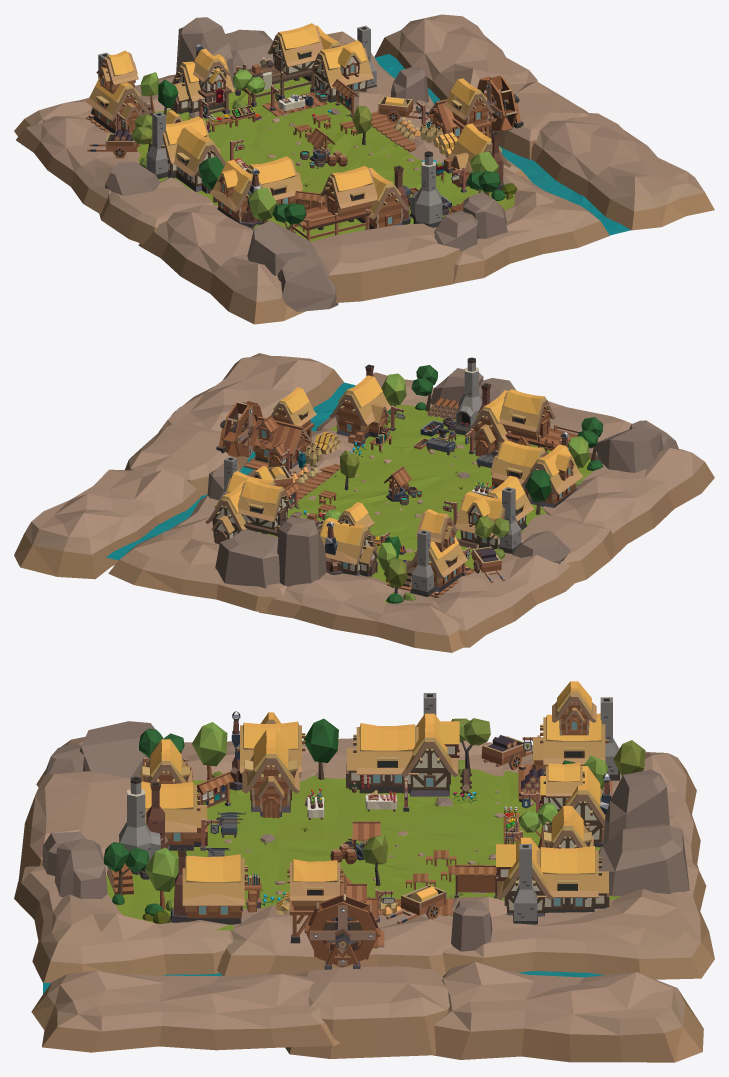
Rendered from village.fbx.
3 views of the same model, one above another, from view 1: azimuth 30°, elevation 25°; view 2: azimuth 150°, elevation 25°; view 3: azimuth 270°, elevation 25° (orthographic). The views are drawn at different scales.
Parts seen in each view (by area): view 1: samor_1112_435, samor_1112_422, samor_1112_421, samor_1112_437, samor_1112_441, samor_1112_431, samor_1112_424, samor_1112_423, samor_1112_440, samor_1112_52, samor_1112_427, samor_1112_48 (+44 smaller); view 2: samor_1112_441, samor_1112_426, samor_1112_422, samor_1112_434, samor_1112_424, samor_1112_435, samor_1112_431, samor_1112_440, samor_1112_439, samor_1112_38, samor_1112_423, samor_1112_39 (+40 smaller); view 3: samor_1112_441, samor_1112_435, samor_1112_434, samor_1112_437, samor_1112_440, samor_1112_427, samor_1112_442, samor_1112_431, samor_1112_421, samor_1112_38, samor_1112_439, samor_1112_374 (+49 smaller).
Part boxes in pixels (bbox=[...]): samor_1112_435: bbox=[531, 112, 714, 230]; samor_1112_422: bbox=[138, 204, 305, 324]; samor_1112_421: bbox=[311, 223, 461, 302]; samor_1112_437: bbox=[433, 168, 609, 283]; samor_1112_441: bbox=[374, 14, 537, 100]; samor_1112_431: bbox=[240, 101, 421, 184]; samor_1112_424: bbox=[16, 116, 146, 214]; samor_1112_423: bbox=[99, 177, 213, 244]; samor_1112_440: bbox=[484, 81, 588, 159]; samor_1112_52: bbox=[277, 252, 338, 311]; samor_1112_427: bbox=[128, 123, 324, 205]; samor_1112_48: bbox=[247, 220, 317, 275]; samor_1112_441: bbox=[14, 469, 200, 579]; samor_1112_426: bbox=[258, 572, 463, 652]; samor_1112_422: bbox=[542, 448, 714, 558]; samor_1112_434: bbox=[108, 495, 294, 613]; samor_1112_424: bbox=[429, 553, 578, 647]; samor_1112_435: bbox=[158, 353, 343, 440]; samor_1112_431: bbox=[287, 453, 456, 536]; samor_1112_440: bbox=[125, 421, 249, 496]; samor_1112_439: bbox=[330, 404, 492, 480]; samor_1112_38: bbox=[215, 529, 279, 588]; samor_1112_423: bbox=[521, 514, 614, 583]; samor_1112_39: bbox=[277, 516, 326, 586]; samor_1112_441: bbox=[433, 961, 703, 1062]; samor_1112_435: bbox=[31, 970, 339, 1052]; samor_1112_434: bbox=[442, 854, 714, 979]; samor_1112_437: bbox=[14, 855, 233, 982]; samor_1112_440: bbox=[285, 966, 449, 1058]; samor_1112_427: bbox=[278, 764, 509, 840]; samor_1112_442: bbox=[217, 904, 452, 976]; samor_1112_431: bbox=[278, 840, 504, 916]; samor_1112_421: bbox=[18, 771, 130, 879]; samor_1112_38: bbox=[598, 824, 689, 896]; samor_1112_439: bbox=[106, 832, 278, 930]; samor_1112_374: bbox=[182, 854, 247, 924].
Size of the model in its own units: 6038 by 1681 by 6046.
3 materials, 3 textured.
